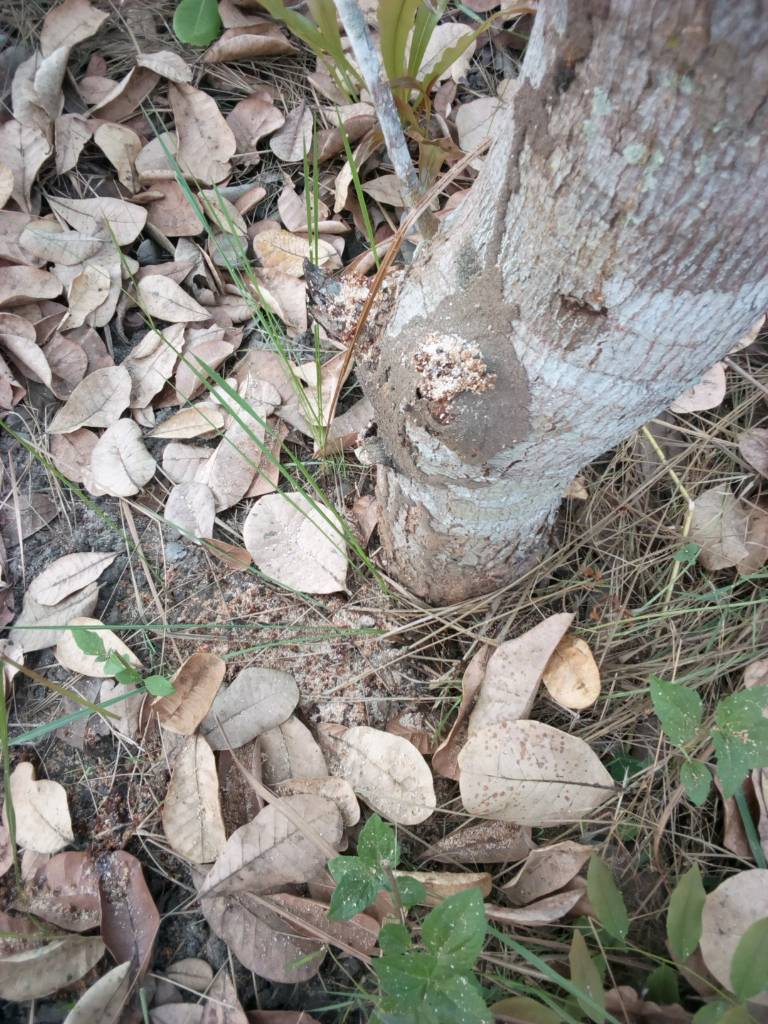Termites: (363, 277, 529, 478)
